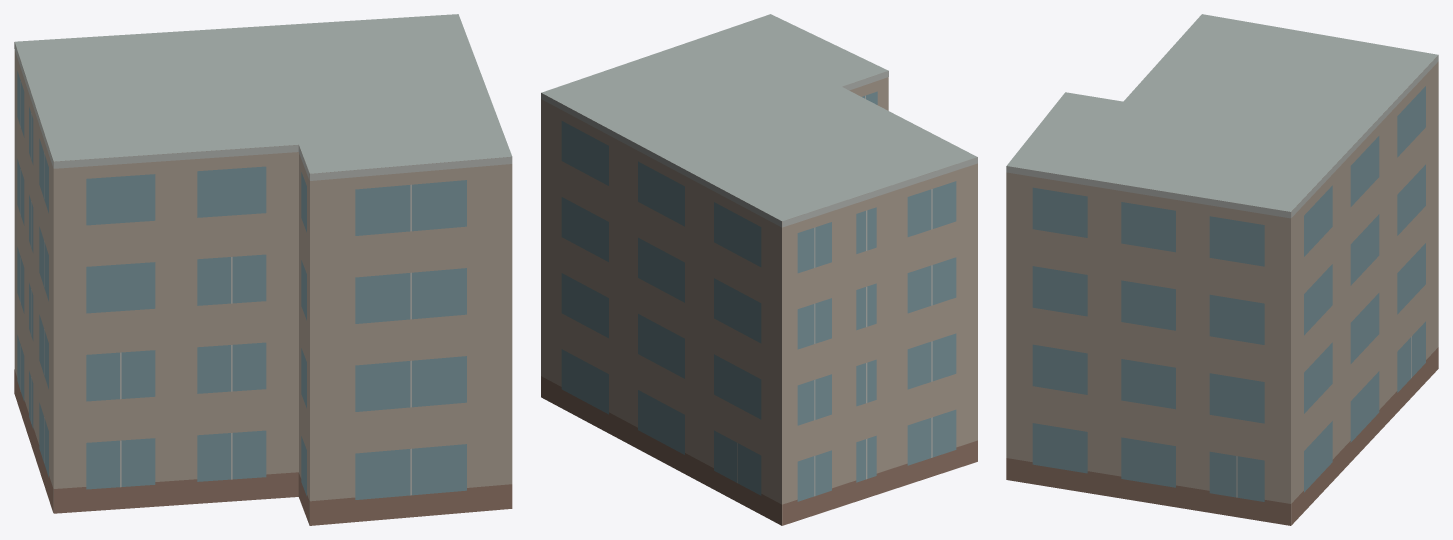
File: survey-upis-32749651.glb
3 renders of one model, left to right at view 1: azimuth 30°, elevation 25°; view 2: azimuth 150°, elevation 25°; view 3: azimuth 270°, elevation 25°, orthographic. The views are drawn at different scales.
Visible parts, largest first — view 1: survey-upis-32749651.tmp; view 2: survey-upis-32749651.tmp; view 3: survey-upis-32749651.tmp.
Boxes of the visible parts, bbox=[...] form: survey-upis-32749651.tmp: bbox=[14, 14, 512, 525]; survey-upis-32749651.tmp: bbox=[541, 14, 977, 525]; survey-upis-32749651.tmp: bbox=[1006, 14, 1438, 525].
Size of the model in its own units: 15.97 by 11.8 by 14.73.
